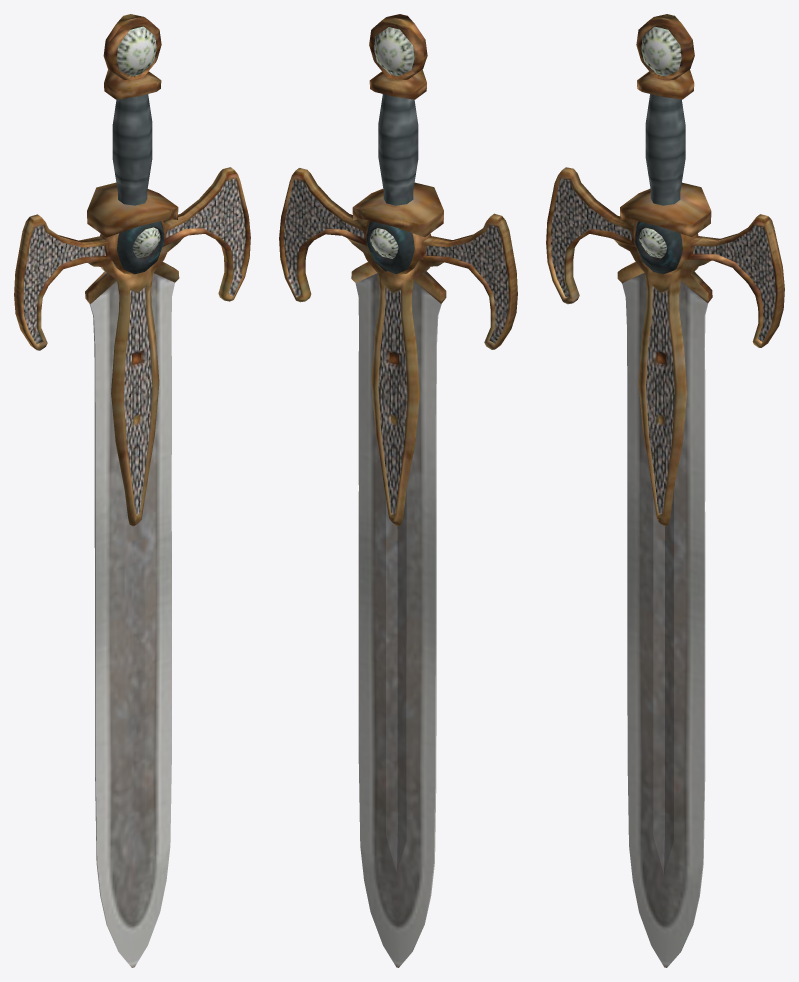
Rendered from Sword.FBX.
3 renders of one model, left to right at view 1: azimuth 30°, elevation 25°; view 2: azimuth 150°, elevation 25°; view 3: azimuth 330°, elevation 25°, orthographic.
Visible parts, largest first — view 1: Object01; view 2: Object01; view 3: Object01.
Part boxes in pixels (x1,y1,x2,y2): Object01: (14, 14, 250, 967); Object01: (279, 14, 517, 967); Object01: (546, 14, 784, 967).
Size of the model in its own units: 182 by 711 by 57.52.
1 material, 1 textured.
